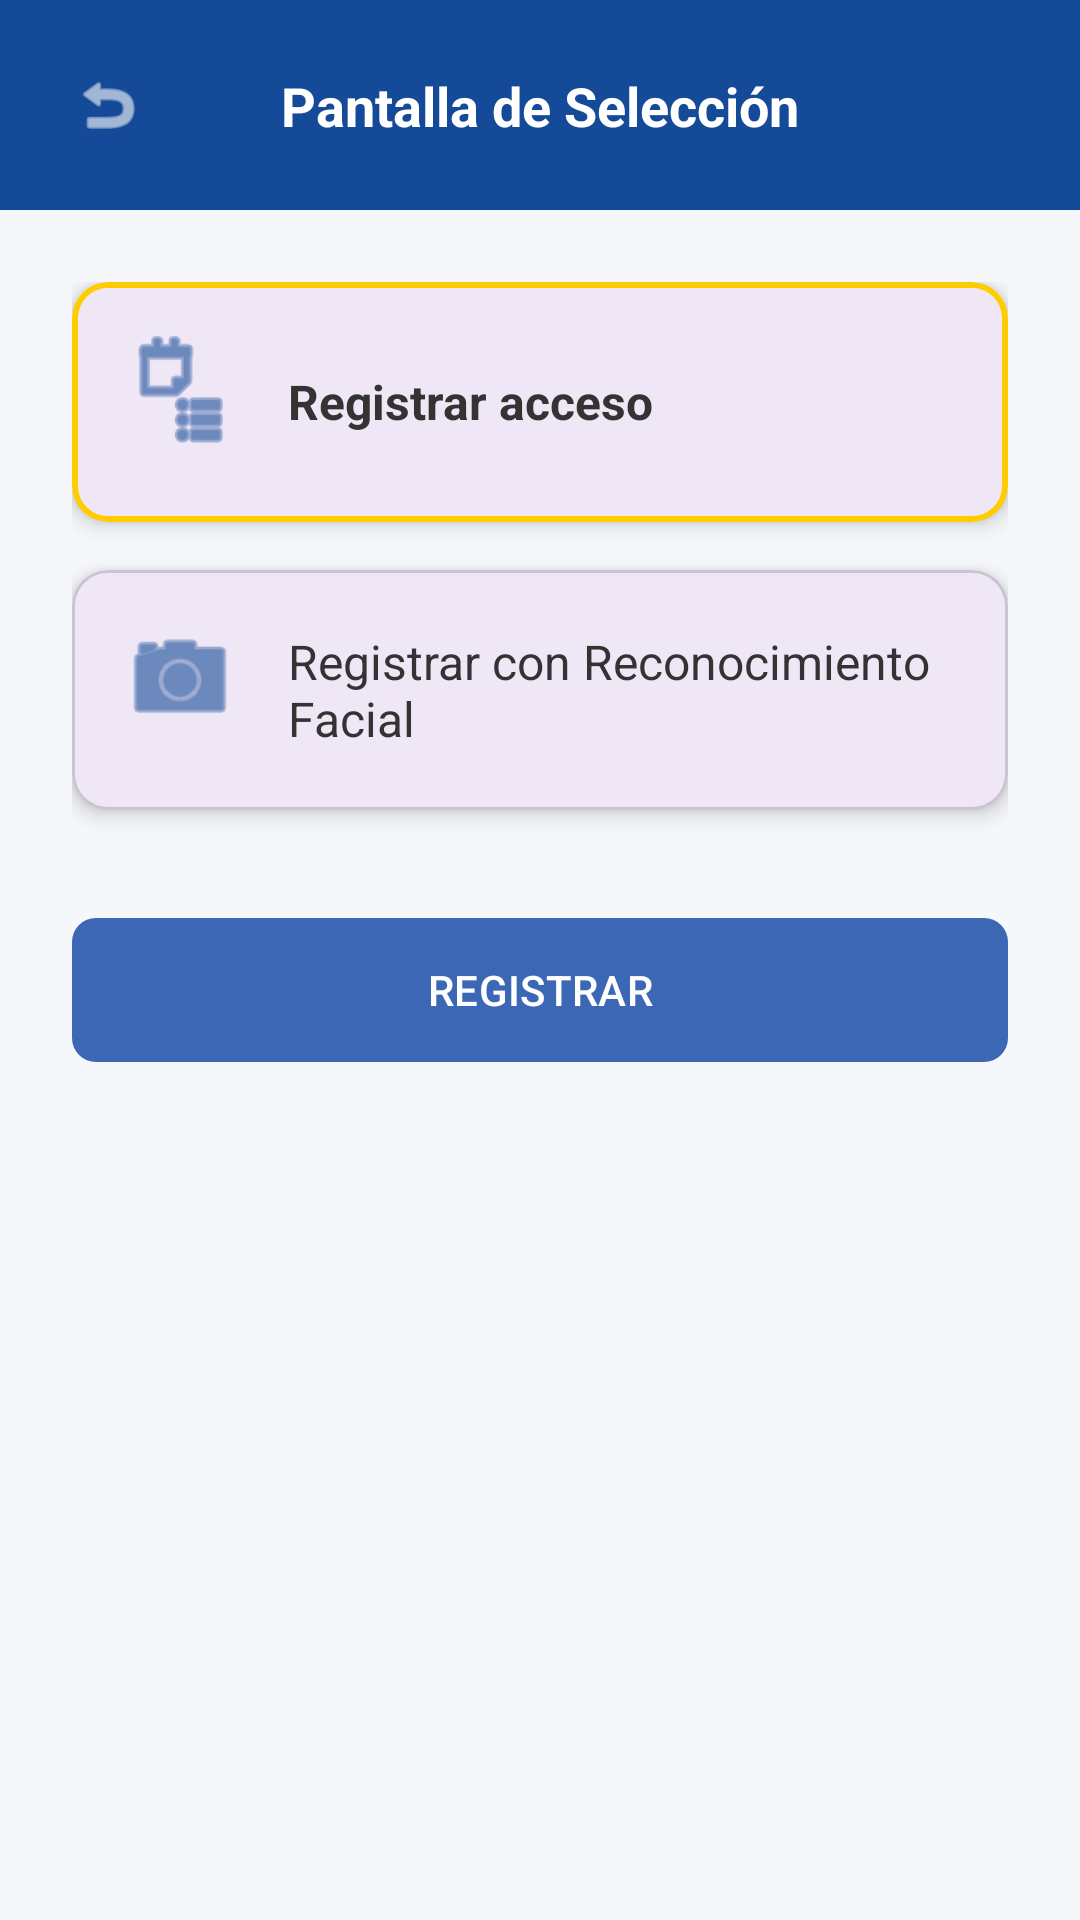

Where icons sit on this 1080px x 1920px app screen, as (x1, y1, x2, y2):
agenda: (138, 336, 223, 443)
camera: (134, 639, 226, 713)
revert: (83, 82, 135, 129)
